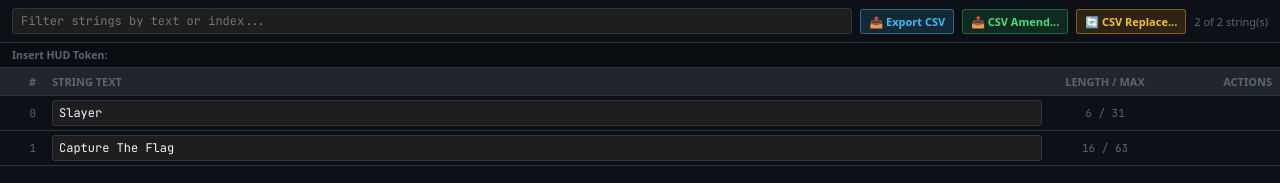
Test: Milestone 9 Desktop Components › UnicodeStringEditorPanel › filters strings by search query
Expected: the field with test id "unicode-input-0" is shown, 52,100 -> 1042,126
Type "Flag" into the field with test id "unicode-string-search".
click(432, 21); type("Flag")  # box 12,8 -> 852,34
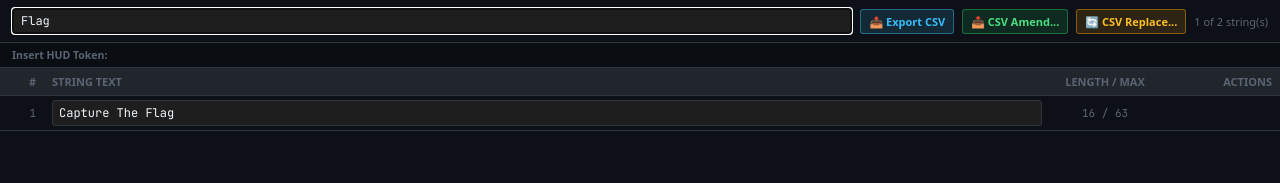
Expected: the field with test id "unicode-input-1" is shown, 52,100 -> 1042,126
Result: the field with test id "unicode-input-0" is gone
